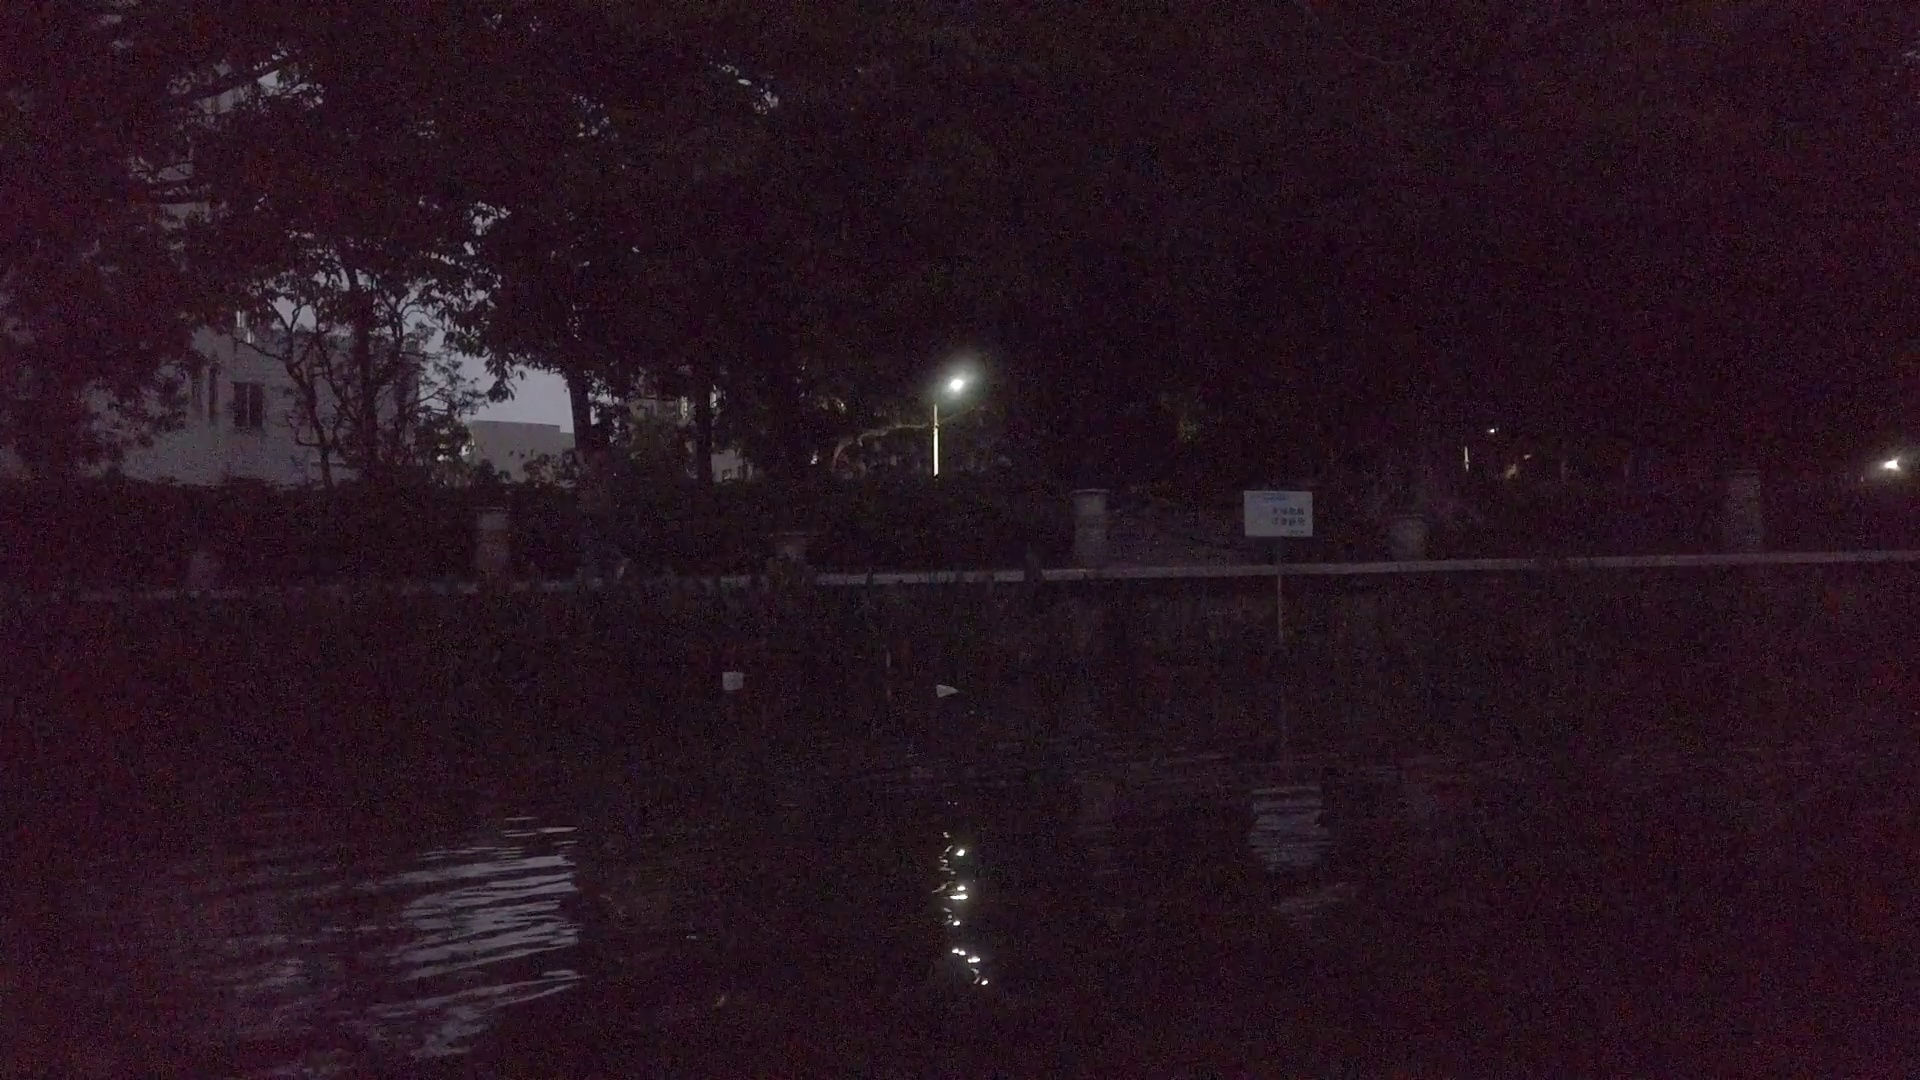carton: (724, 674, 745, 684), (934, 682, 951, 694)
